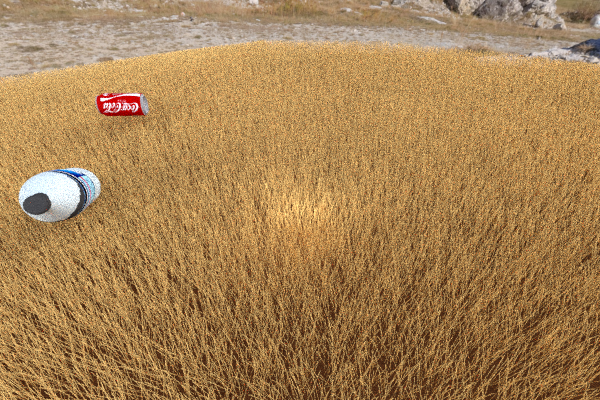Plastic Bottle: (18, 167, 100, 222), (538, 73, 600, 98), (95, 93, 148, 116)
